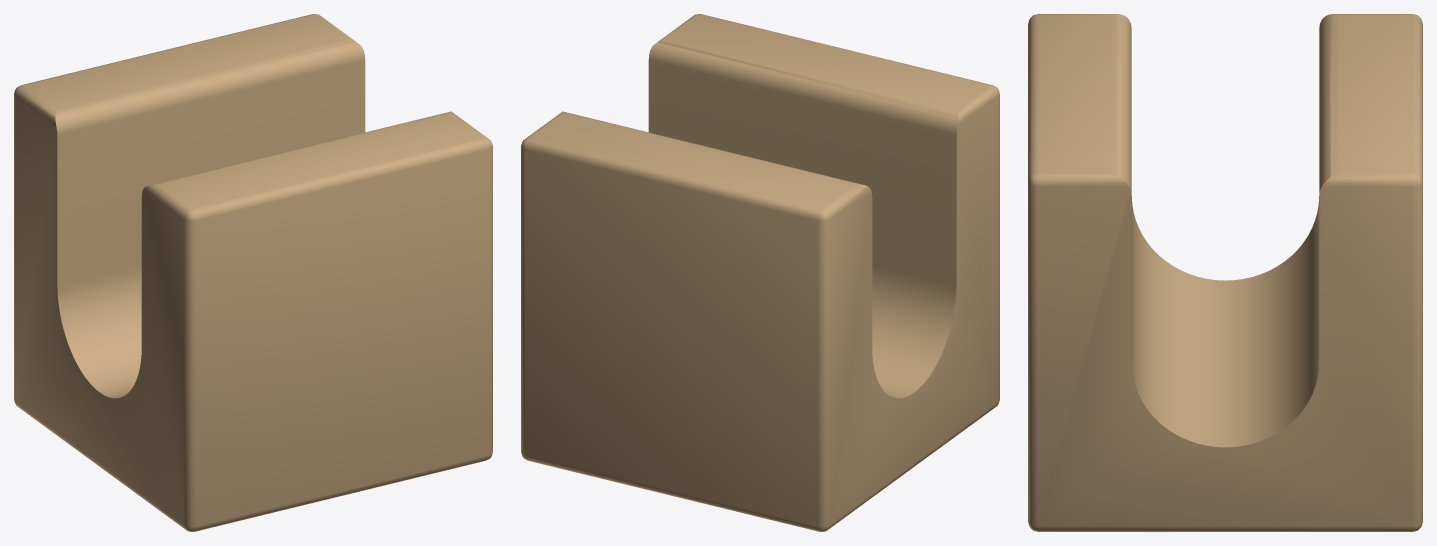
Rendered from blk_straight_l1.glb.
3 renders of one model, left to right at view 1: azimuth 30°, elevation 25°; view 2: azimuth 150°, elevation 25°; view 3: azimuth 270°, elevation 25°, orthographic. The views are drawn at different scales.
Parts seen in each view (by area): view 1: blk_straight_l1_lod0; view 2: blk_straight_l1_lod0; view 3: blk_straight_l1_lod0.
Part boxes in pixels (box(x1,y1,x2,y2)): blk_straight_l1_lod0: box(14, 14, 492, 531); blk_straight_l1_lod0: box(521, 14, 999, 531); blk_straight_l1_lod0: box(1028, 14, 1422, 531).
Size of what is drawn, in the model's own units: 0.059 by 0.059 by 0.059.
